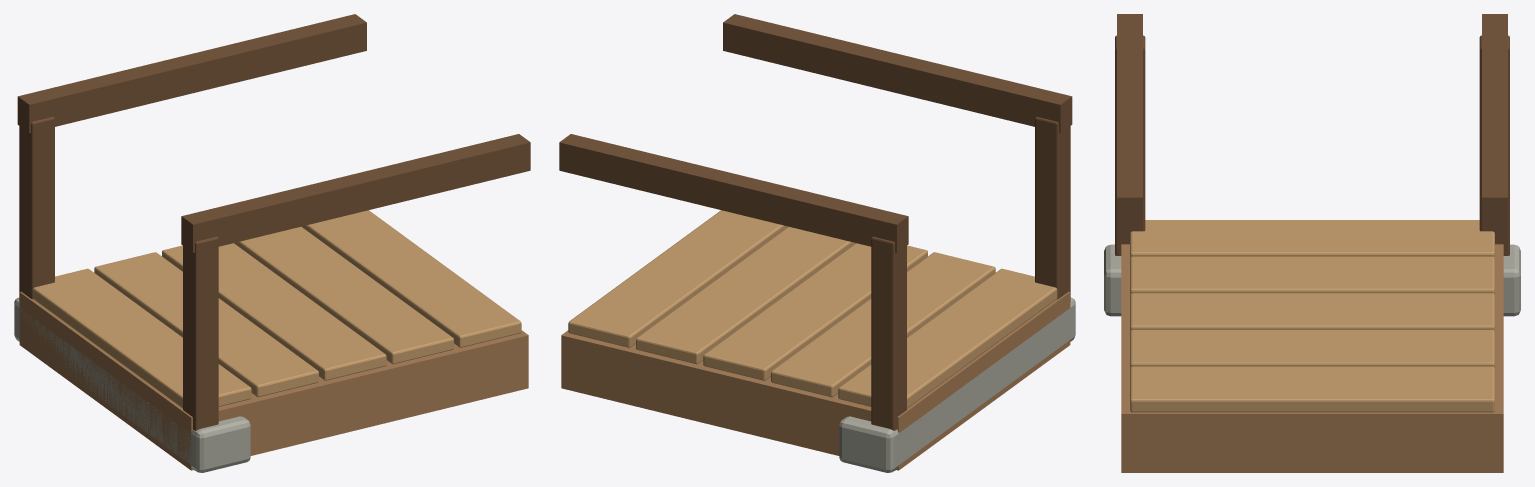
File: bridge-start.glb
The picture shows the model from 3 angles, left to right: view 1: azimuth 30°, elevation 25°; view 2: azimuth 150°, elevation 25°; view 3: azimuth 270°, elevation 25°; orthographic projection. The views are drawn at different scales.
Visible parts, largest first — view 1: Bridge highlights, Dark beams, Bridge oak, Fieldstone; view 2: Bridge highlights, Dark beams, Bridge oak, Fieldstone; view 3: Bridge highlights, Bridge oak, Dark beams, Fieldstone.
Part boxes in pixels (<box>): Bridge highlights: <box>32,210,521,408</box>; Dark beams: <box>17,14,530,470</box>; Bridge oak: <box>19,291,528,470</box>; Fieldstone: <box>14,297,250,472</box>; Bridge highlights: <box>568,210,1057,408</box>; Dark beams: <box>559,14,1072,470</box>; Bridge oak: <box>561,291,1070,470</box>; Fieldstone: <box>839,297,1075,472</box>; Bridge highlights: <box>1130,220,1494,412</box>; Bridge oak: <box>1121,244,1503,472</box>; Dark beams: <box>1115,14,1509,255</box>; Fieldstone: <box>1104,244,1520,316</box>.
Bounding box in the file's own units: 1 × 0.7 × 0.96.
